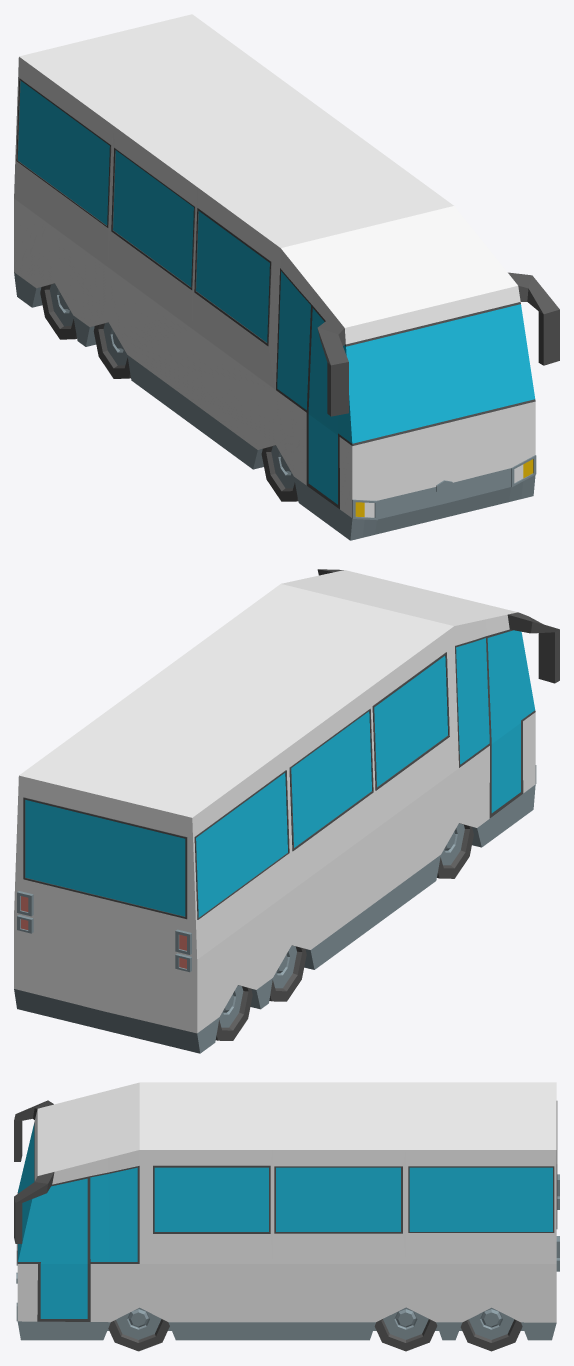
File: Bus_01.gltf
3 renders of one model, top to bottom at view 1: azimuth 30°, elevation 25°; view 2: azimuth 150°, elevation 25°; view 3: azimuth 270°, elevation 25°, orthographic. The views are drawn at different scales.
Parts seen in each view (by area): view 1: node-0; view 2: node-0; view 3: node-0.
Boxes of the visible parts, box(x1,y1,x2,y2) form: node-0: box(14, 14, 559, 540); node-0: box(14, 569, 559, 1053); node-0: box(14, 1082, 559, 1351).
Bounding box in the file's own units: 9.16 × 9.68 × 23.75.
